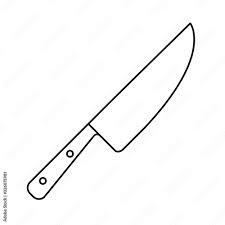Knife: (26, 21, 195, 199)
